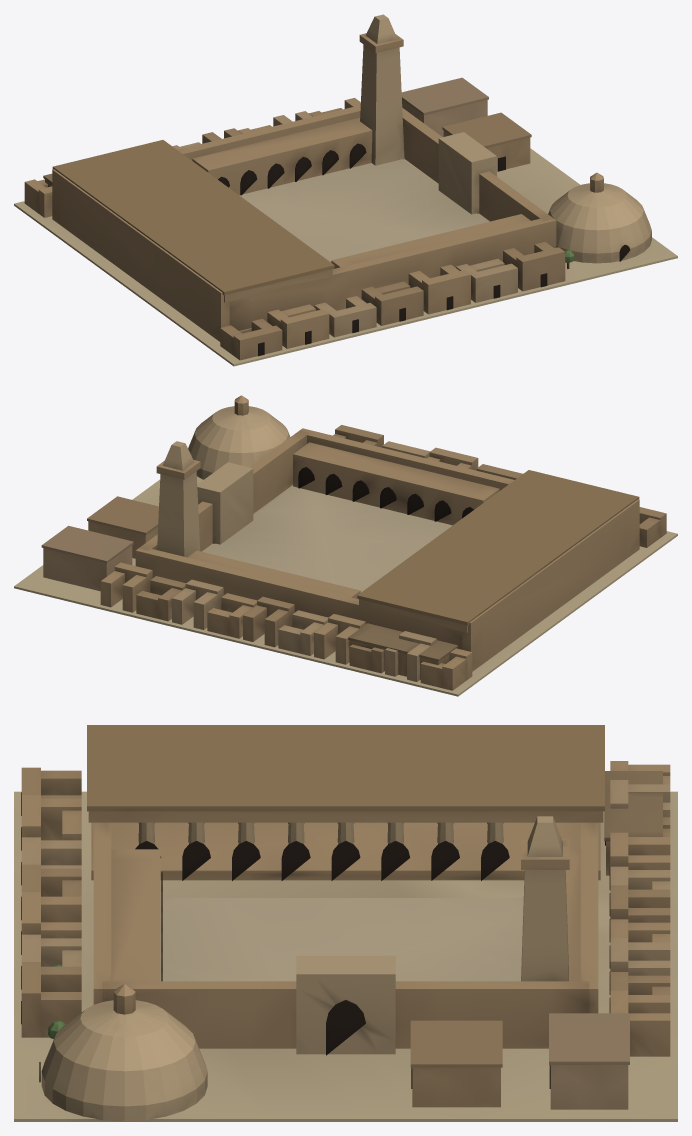
The model's file is beni-makhan.glb.
The picture shows the model from 3 angles, top to bottom: view 1: azimuth 30°, elevation 25°; view 2: azimuth 150°, elevation 25°; view 3: azimuth 270°, elevation 25°; orthographic projection. The views are drawn at different scales.
Visible parts, largest first — view 1: p1_mosque, p2_cistern, p0_ground; view 2: p1_mosque, p2_cistern, p0_ground; view 3: p1_mosque, p2_cistern, p0_ground.
Part boxes in pixels (x1,y1,x2,y2): p1_mosque: [52, 14, 556, 341]; p2_cistern: [24, 77, 651, 360]; p0_ground: [14, 148, 677, 366]; p1_mosque: [135, 428, 639, 671]; p2_cistern: [41, 395, 666, 690]; p0_ground: [14, 476, 677, 696]; p1_mosque: [87, 725, 604, 1055]; p2_cistern: [21, 761, 670, 1121]; p0_ground: [14, 791, 677, 1121].
Size of the model in its own units: 70.5 by 21.3 by 60.
